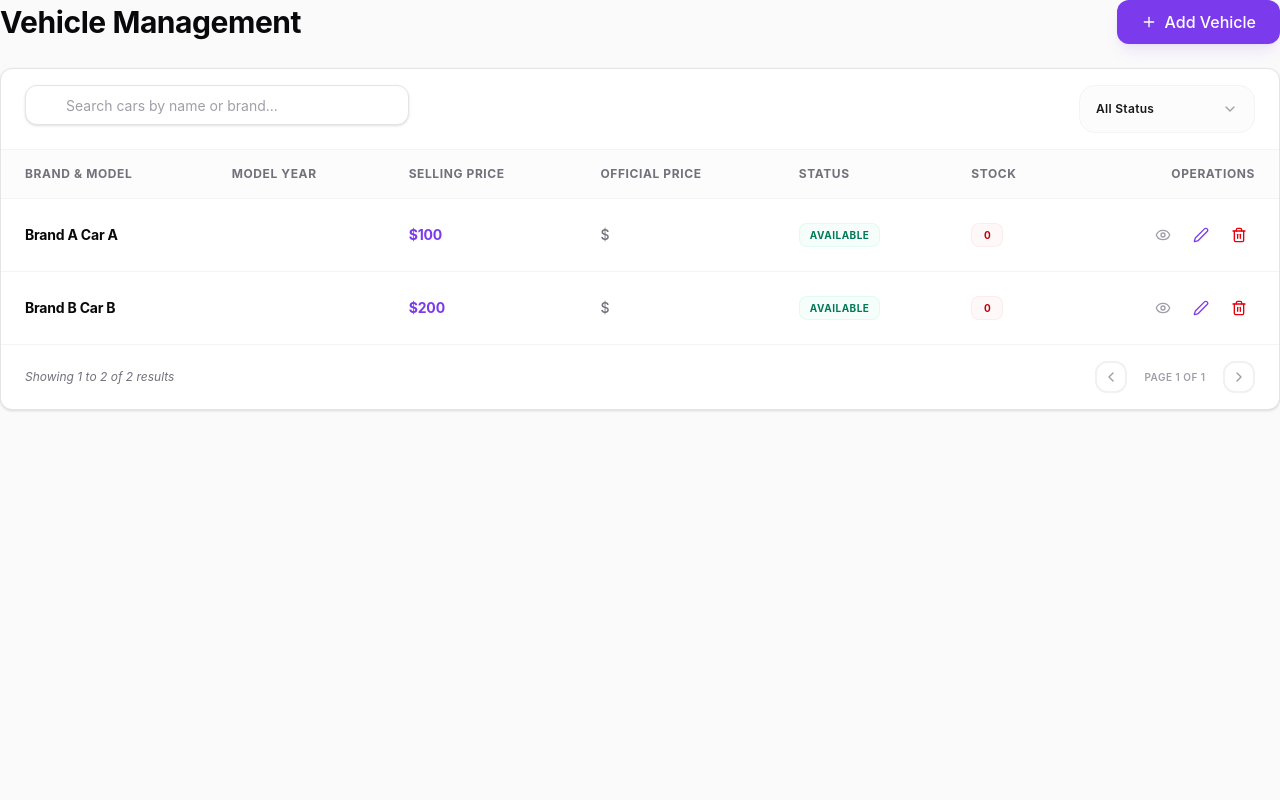
Test: AdminCars › opens add car modal when clicking Add Car
Click the button "Add Vehicle": {"x": 1198, "y": 22} left=1116, top=0, right=1279, bottom=44
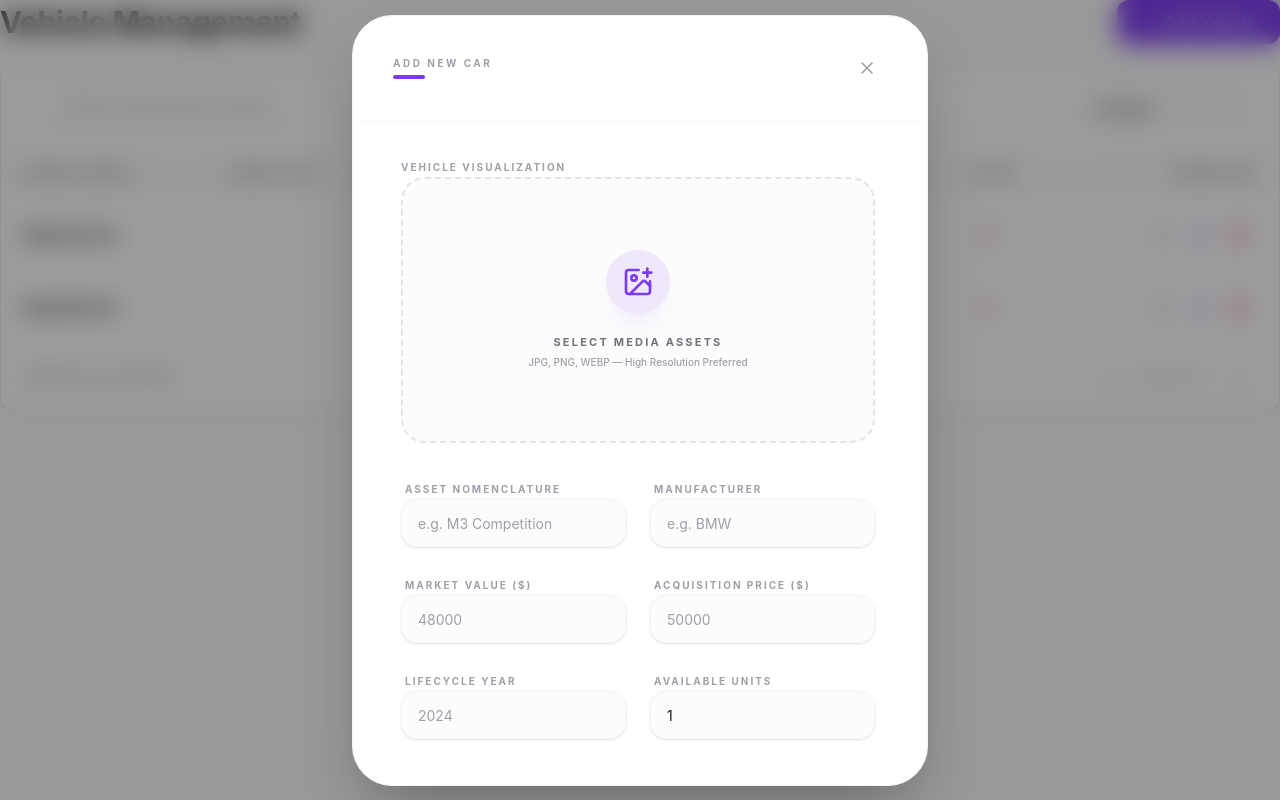
Now the heading "Add New Car" is shown, box left=393, top=56, right=492, bottom=71
